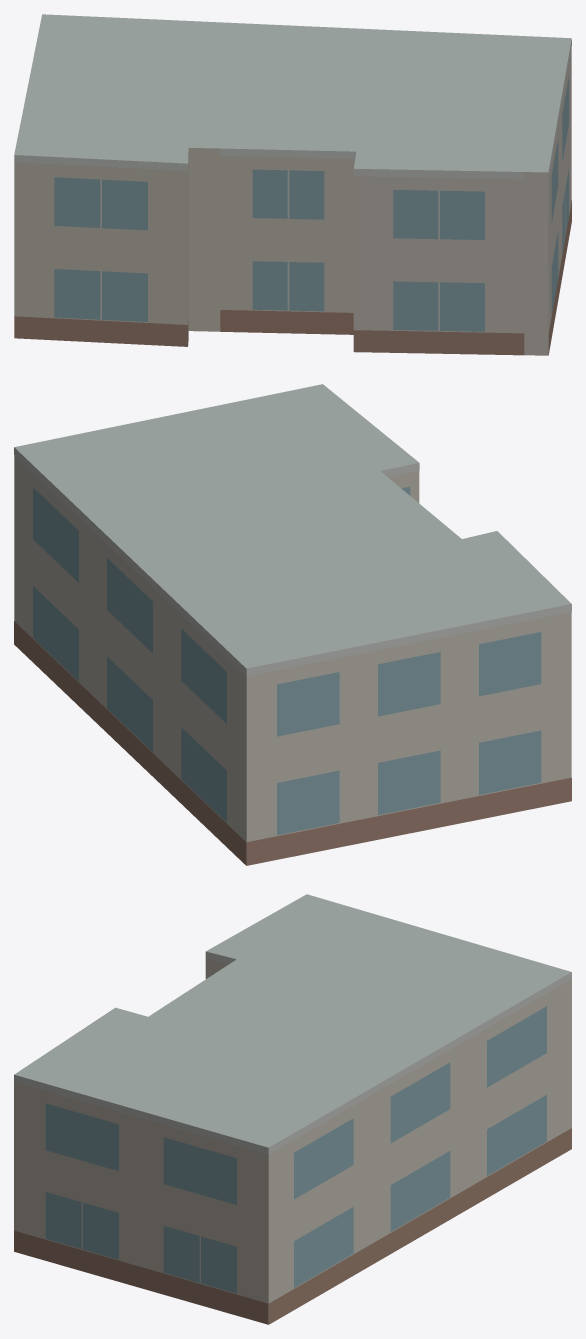
Rendered from survey-upis-32492865.glb.
The picture shows the model from 3 angles, top to bottom: view 1: azimuth 30°, elevation 25°; view 2: azimuth 150°, elevation 25°; view 3: azimuth 270°, elevation 25°; orthographic projection. The views are drawn at different scales.
Parts seen in each view (by area): view 1: survey-upis-32492865.tmp; view 2: survey-upis-32492865.tmp; view 3: survey-upis-32492865.tmp.
Part boxes in pixels (x1,y1,x2,y2): survey-upis-32492865.tmp: (14,14,571,355); survey-upis-32492865.tmp: (14,384,571,865); survey-upis-32492865.tmp: (14,894,571,1324).
Bounding box in the file's own units: 18.75 × 6.1 × 17.42.
